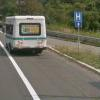Bus: (3, 11, 49, 55)
